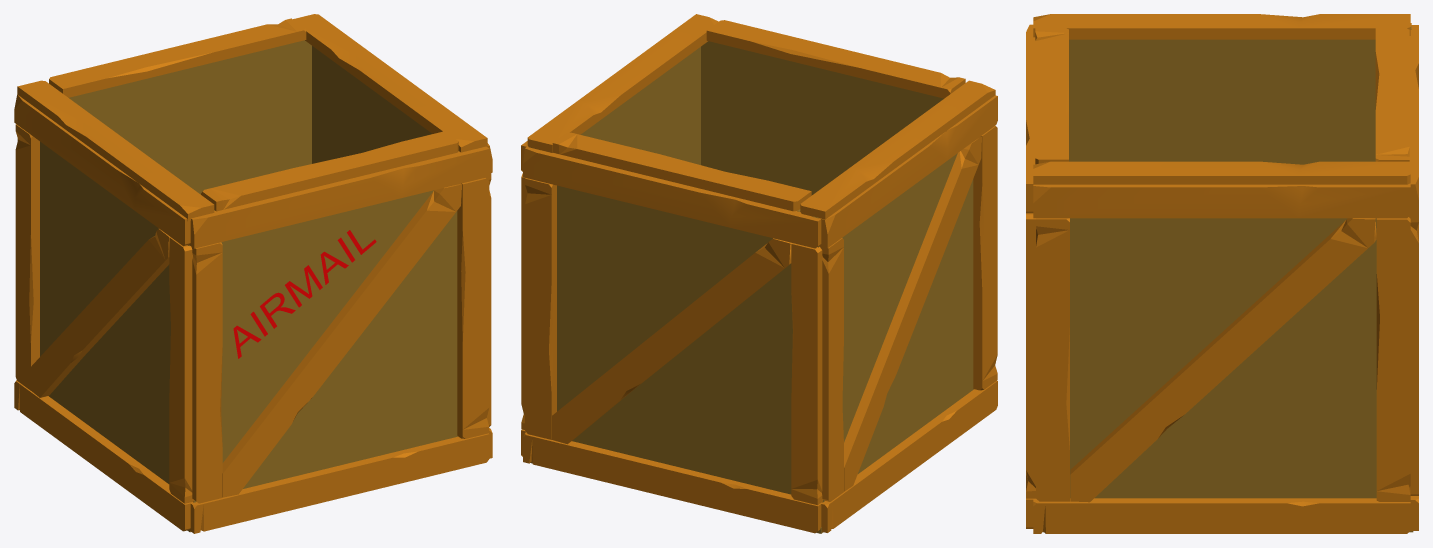
Rendered from Crate1.FBX.
3 renders of one model, left to right at view 1: azimuth 30°, elevation 25°; view 2: azimuth 150°, elevation 25°; view 3: azimuth 270°, elevation 25°, orthographic. The views are drawn at different scales.
Visible parts, largest first — view 1: Box013, Stamp; view 2: Box013; view 3: Box013.
Part boxes in pixels (x1,y1,x2,y2): Box013: (14,14,492,533); Stamp: (233,230,376,358); Box013: (521,14,997,533); Box013: (1026,14,1418,533).
Size of the model in its own units: 40.98 by 41.33 by 40.98.
